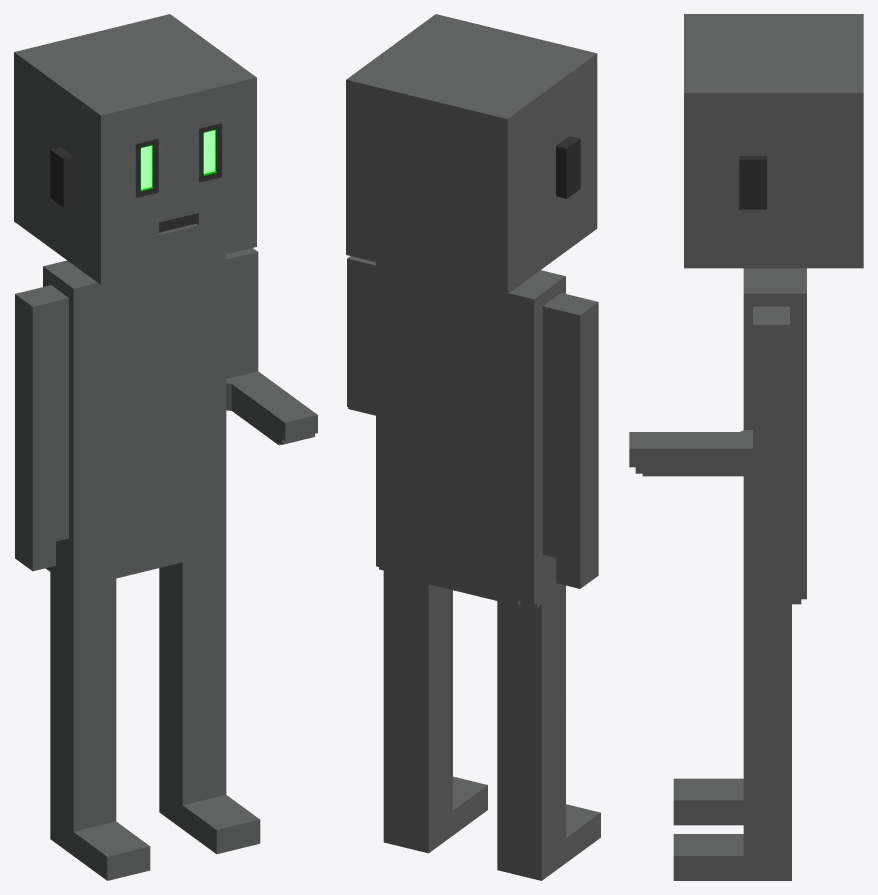
Rendered from droid.glb.
The picture shows the model from 3 angles, left to right: view 1: azimuth 30°, elevation 25°; view 2: azimuth 150°, elevation 25°; view 3: azimuth 270°, elevation 25°; orthographic projection. The views are drawn at different scales.
Visible parts, largest first — view 1: droid.001; view 2: droid.001; view 3: droid.001.
Part boxes in pixels (left/top/right/bottom): droid.001: left=14, top=14, right=317, bottom=880; droid.001: left=346, top=14, right=600, bottom=880; droid.001: left=629, top=14, right=863, bottom=880.
Bounding box in the file's own units: 3.9 × 12.6 × 3.39.
Materials: 1 (1 with a texture image).
